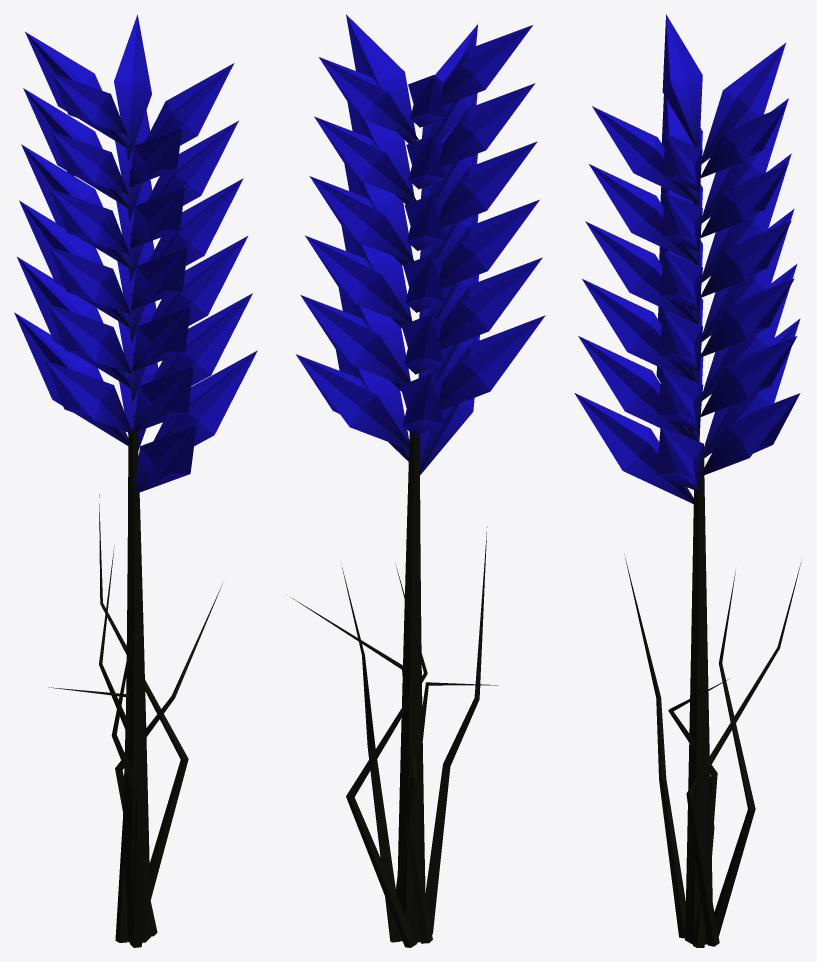
Rendered from Plant-S-6.fbx.
3 views of the same model, side by side, from view 1: azimuth 30°, elevation 25°; view 2: azimuth 150°, elevation 25°; view 3: azimuth 270°, elevation 25° (orthographic). The views are drawn at different scales.
Visible parts, largest first — view 1: OUT-Plant; view 2: OUT-Plant; view 3: OUT-Plant.
Part boxes in pixels (x1,y1,x2,y2): OUT-Plant: (14, 14, 257, 947); OUT-Plant: (291, 14, 545, 947); OUT-Plant: (574, 14, 801, 947).
Size of the model in its own units: 0.0738 by 0.2945 by 0.0694.
